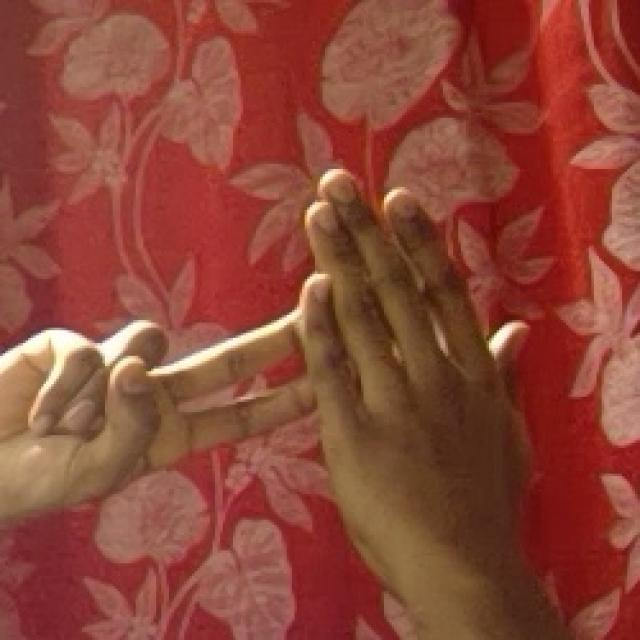Alphabet-N: (0, 157, 552, 564)
